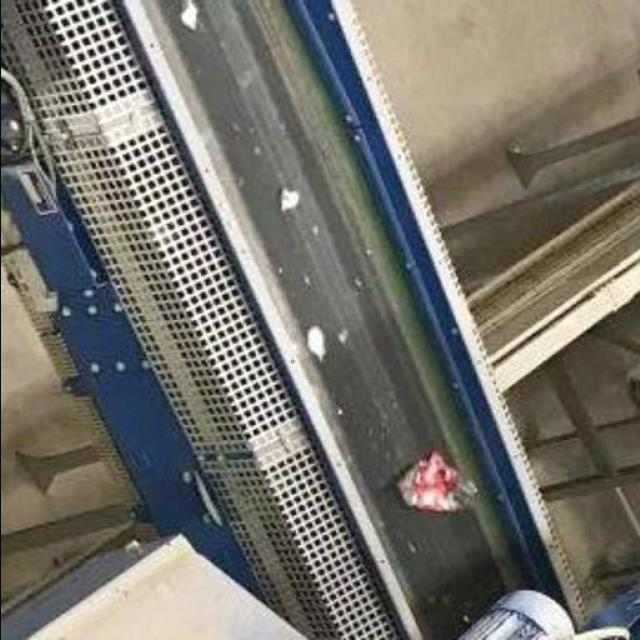conveyor: (132, 0, 590, 640)
